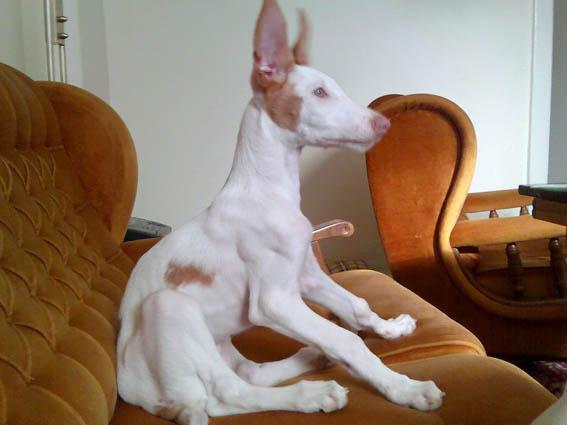Ibizan_hound: (112, 0, 444, 423)
